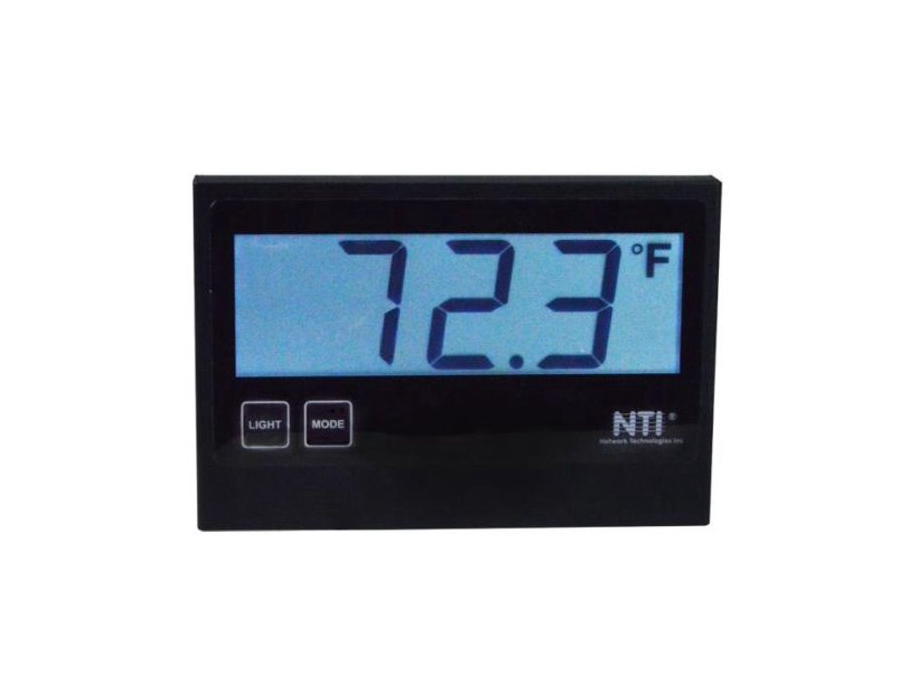.: (508, 353, 525, 372)
2: (425, 238, 517, 372)
3: (535, 238, 623, 370)
7: (337, 237, 409, 367)
